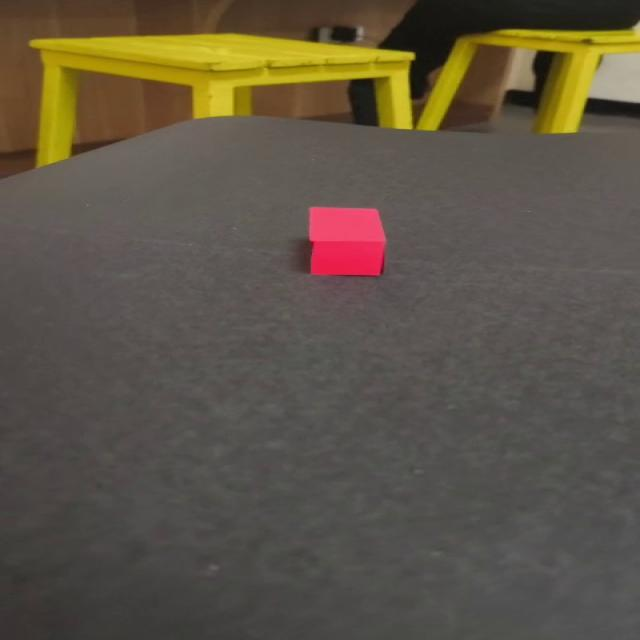red block: (307, 206, 385, 276)
